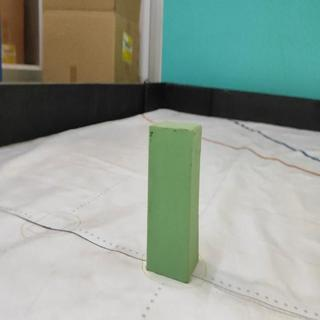greenbox: (145, 119, 202, 283)
